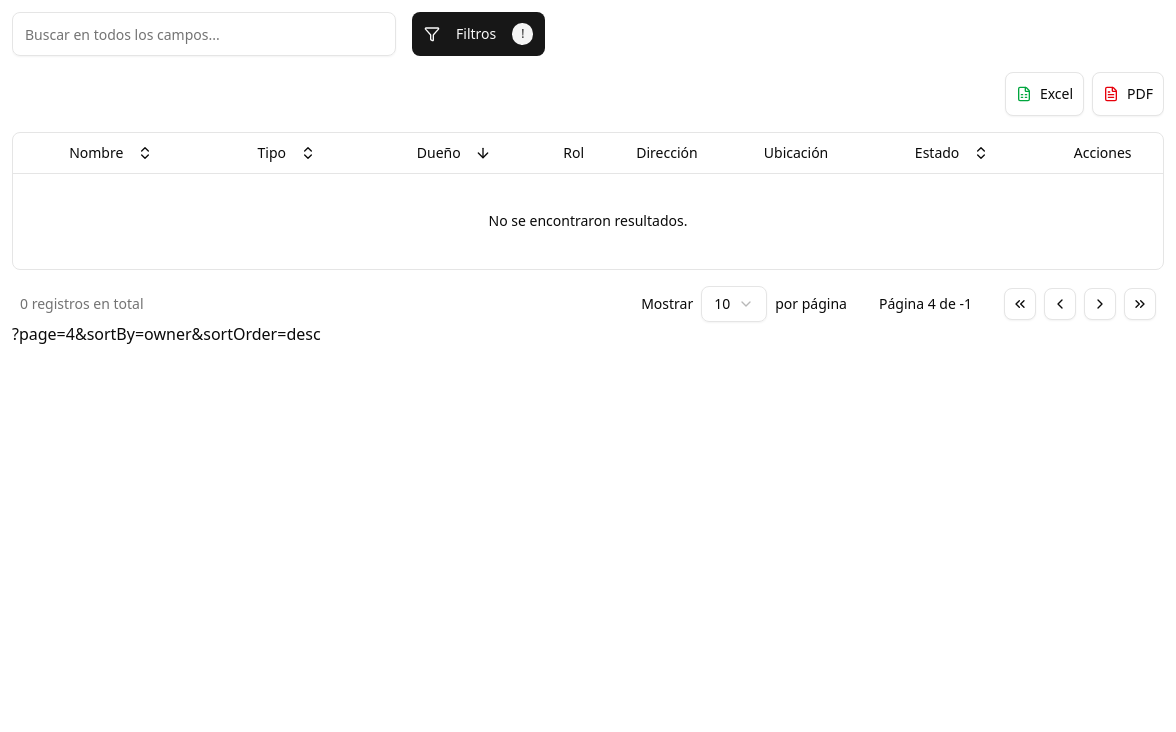
it: EnvironmentsTable server-side sorting › reads sorting from the URL and clearing filters restores defaults and page one
The width and height of the screenshot is (1176, 732).
Click the button "Filtros !" at (479, 34), box [412,12,546,56]
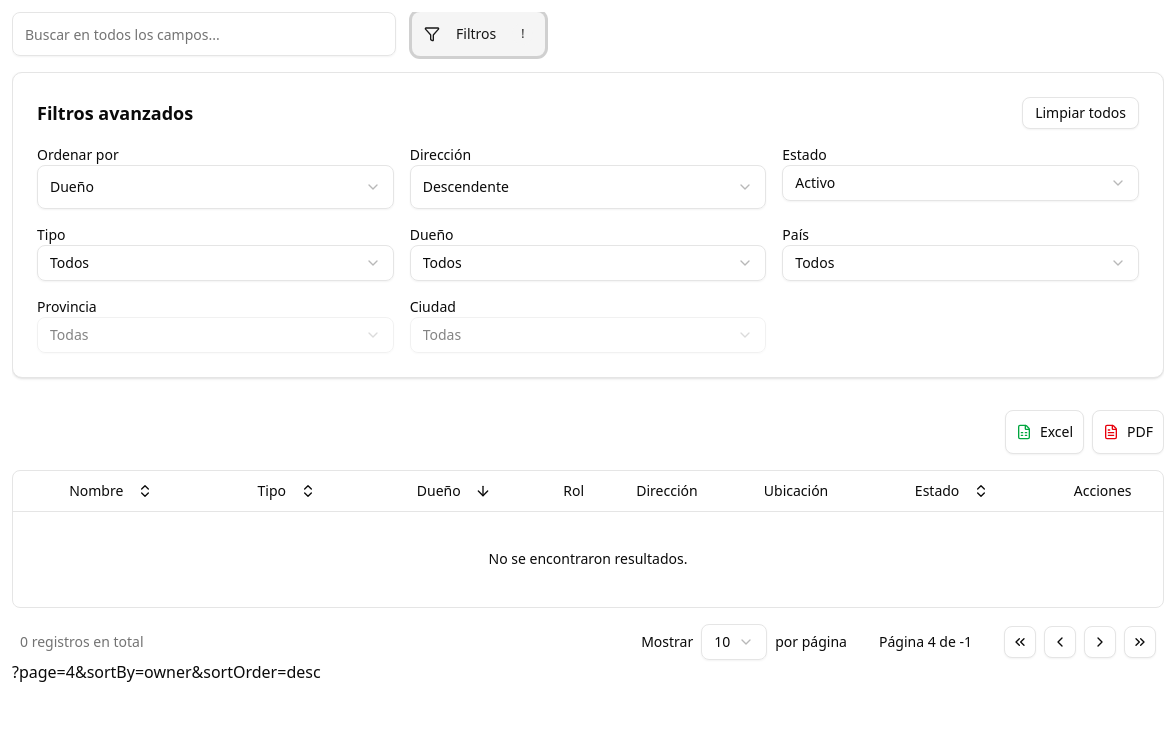
Check: the dropdown labelled "Dueño" is shown, box [37,165,394,209]
Check: the dropdown labelled "Descendente" is shown, box [410,165,766,209]
Click the button "Limpiar todos" at (1081, 113), box [1022,97,1139,129]
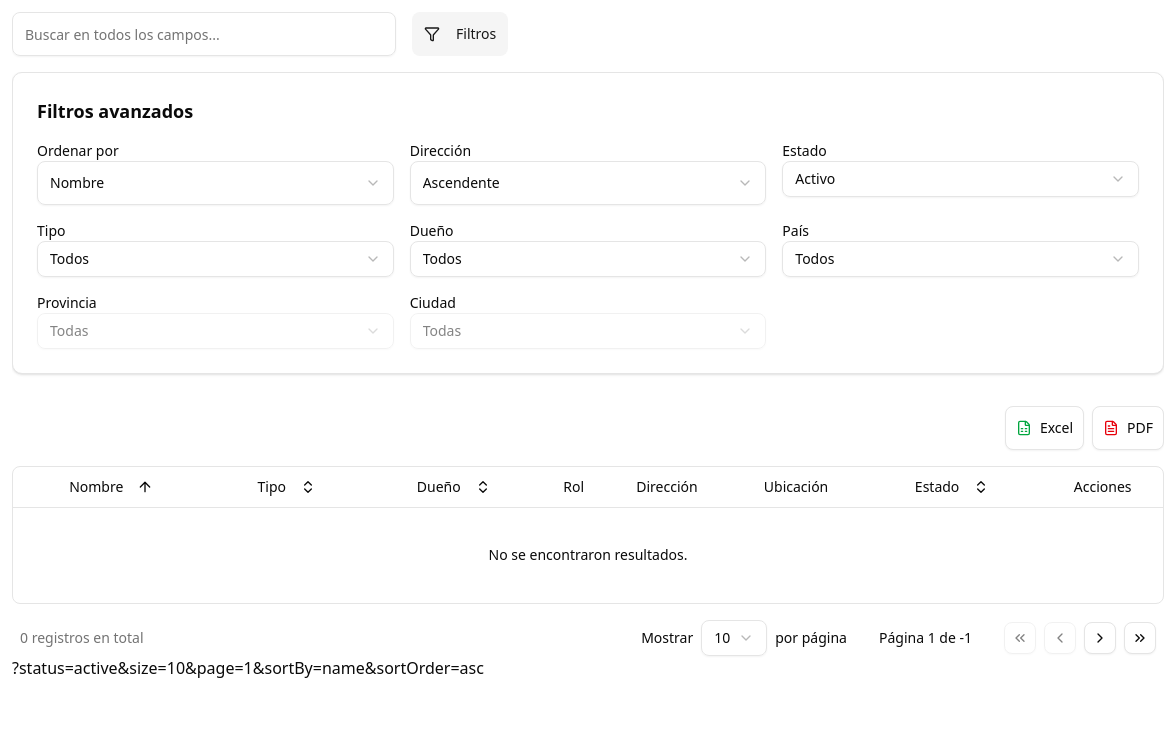
Check: the text named "URL actual" reads "?status=active&size=10&page=1&sortBy=name&sortOrder=asc", box [12,657,484,679]
